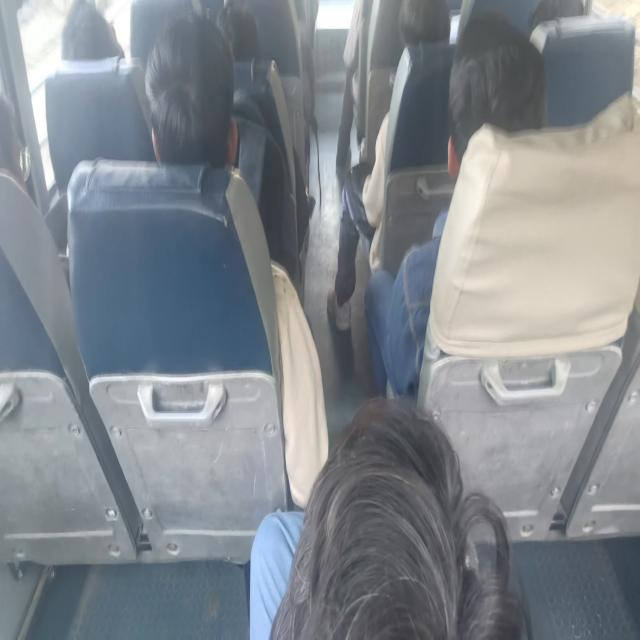person: (143, 9, 329, 508), (363, 10, 548, 401), (249, 394, 524, 638), (326, 0, 452, 331), (144, 10, 238, 167), (60, 0, 125, 61)
